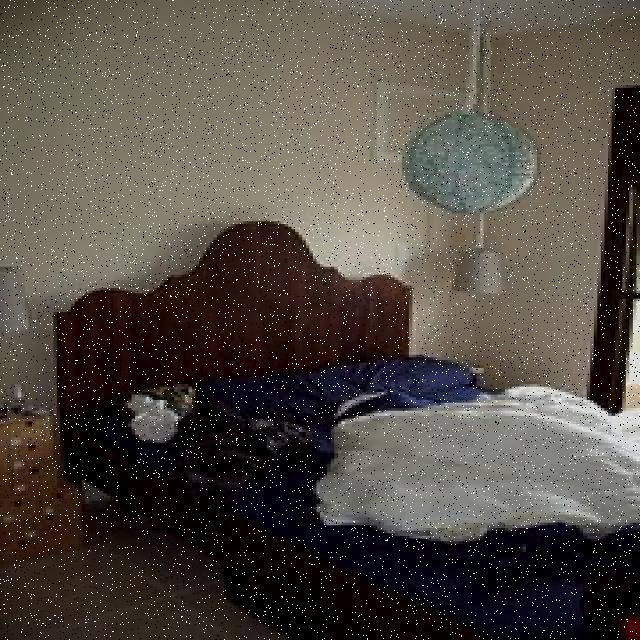bed: (79, 351, 640, 640)
